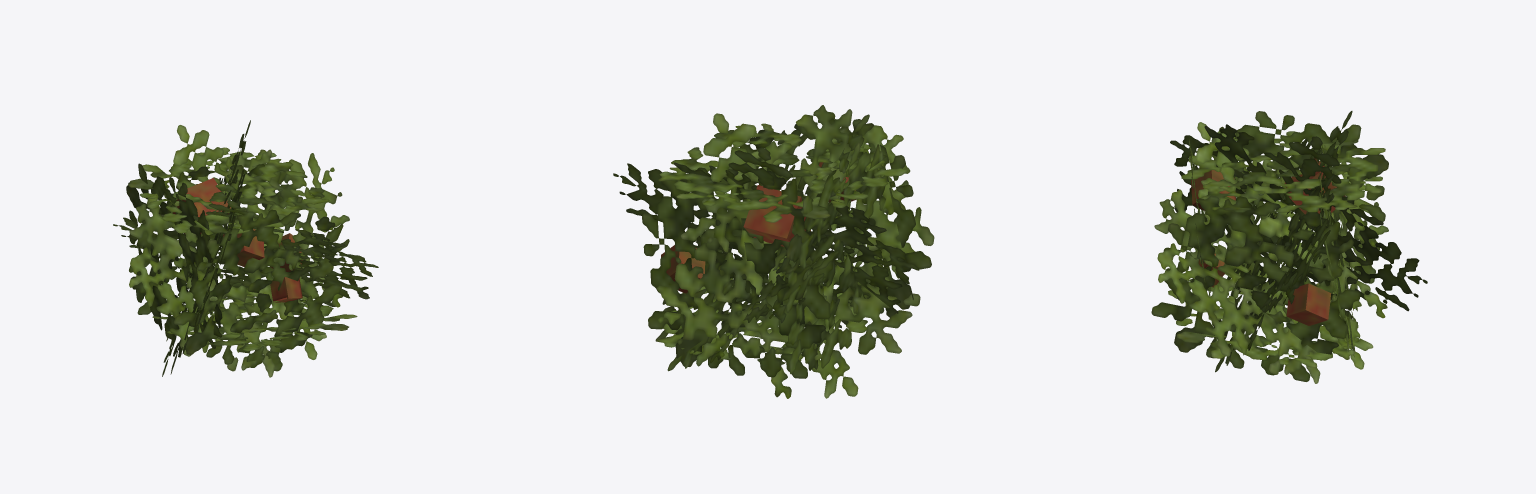
The model's file is apple_leaves_5.obj.
3 renders of one model, left to right at view 1: azimuth 30°, elevation 25°; view 2: azimuth 150°, elevation 25°; view 3: azimuth 270°, elevation 25°, orthographic. The views are drawn at different scales.
Visible parts, largest first — view 1: diagonal_1, north, top, diagonal_3, east, bottom, cube, south, diagonal_2; view 2: diagonal_2, south, diagonal_1, east, top, diagonal_3, north, cube, bottom; view 3: diagonal_3, west, diagonal_2, top, east, diagonal_1, bottom, cube, south.
Boxes of the visible parts, <box> form: diagonal_1: <box>129,125,349,377</box>; north: <box>173,209,349,371</box>; top: <box>128,147,329,233</box>; diagonal_3: <box>113,200,378,306</box>; east: <box>126,163,222,348</box>; bottom: <box>152,294,357,351</box>; cube: <box>172,178,302,302</box>; south: <box>129,164,302,314</box>; diagonal_2: <box>162,120,250,376</box>; diagonal_2: <box>657,105,934,398</box>; south: <box>642,167,832,378</box>; diagonal_1: <box>613,147,919,328</box>; east: <box>786,142,888,374</box>; top: <box>658,123,907,222</box>; diagonal_3: <box>655,114,869,371</box>; north: <box>740,118,931,327</box>; cube: <box>661,162,855,293</box>; bottom: <box>656,256,867,366</box>; diagonal_3: <box>1154,122,1388,383</box>; west: <box>1151,195,1360,381</box>; diagonal_2: <box>1170,124,1427,323</box>; top: <box>1181,131,1385,212</box>; east: <box>1211,111,1388,290</box>; diagonal_1: <box>1208,111,1352,372</box>; bottom: <box>1168,269,1359,367</box>; cube: <box>1191,158,1345,325</box>; south: <box>1319,145,1357,356</box>.
Size of the model in its own units: 2.81 by 2.52 by 2.53.
